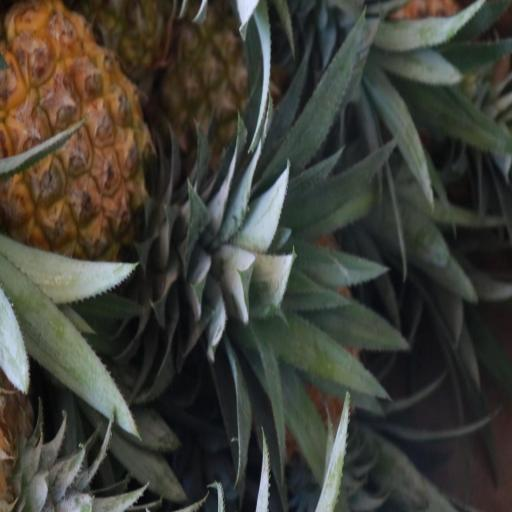Pineapple - v8 v1: (0, 3, 177, 257)
